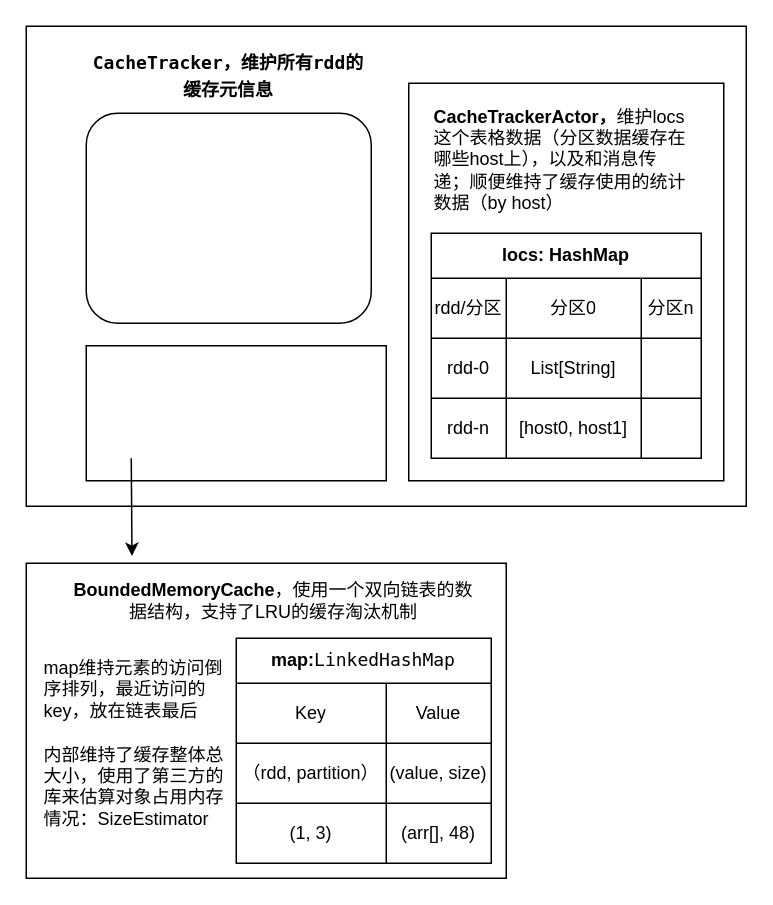
This 773x905 diagram has some shape labels left out. Each missing label, with the centre of its shape:
registeredRddIds ，HashSet标记申请缓存过的rdd cache ，实际存储缓存的内存空间: [235,412]
registerRDD() ，申请缓存该rdd getOrCompute() ，读取缓存，没有的话就计算数据，然后写缓存 dropEntry() ，删除一片缓存: [228,217]
